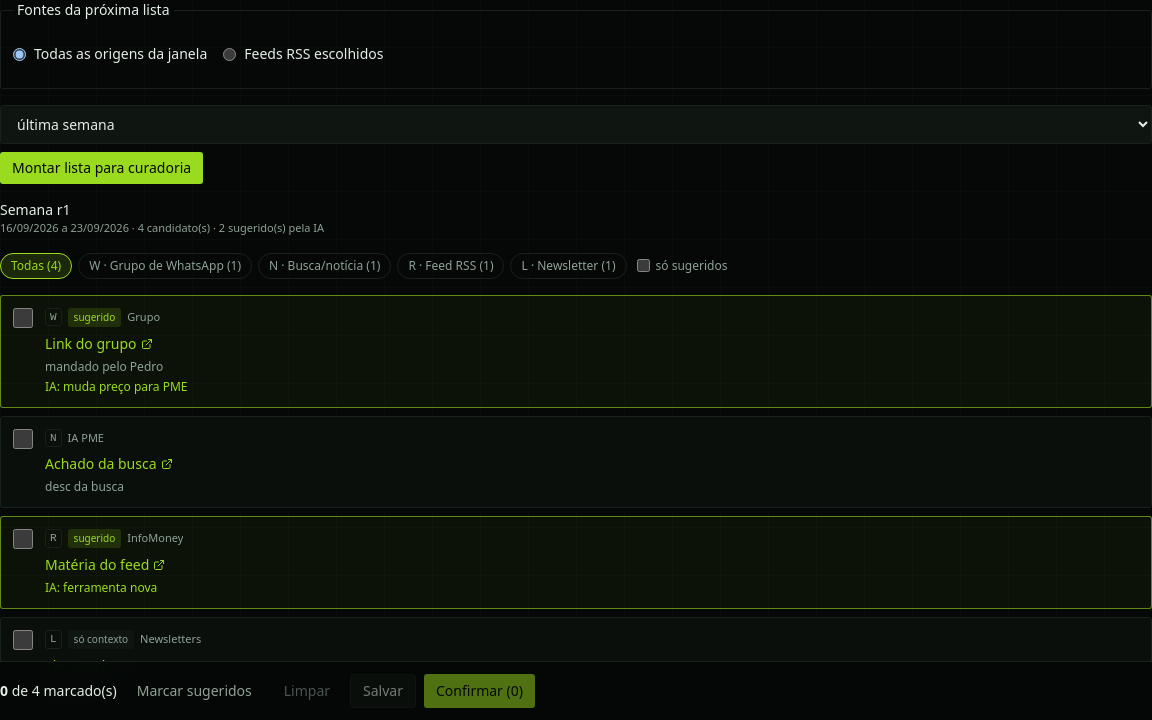
marcar, salvar e confirmar › só os marcados vão na confirmação, e a tela avisa que a rodada seguiu
This screenshot has width=1152, height=720.
Expected: the checkbox named "Marcar: Link do grupo" is shown, [13, 308, 33, 328]
Step 1. Click the checkbox named "Marcar: Achado da busca" → (23, 438), box [13, 428, 33, 448]
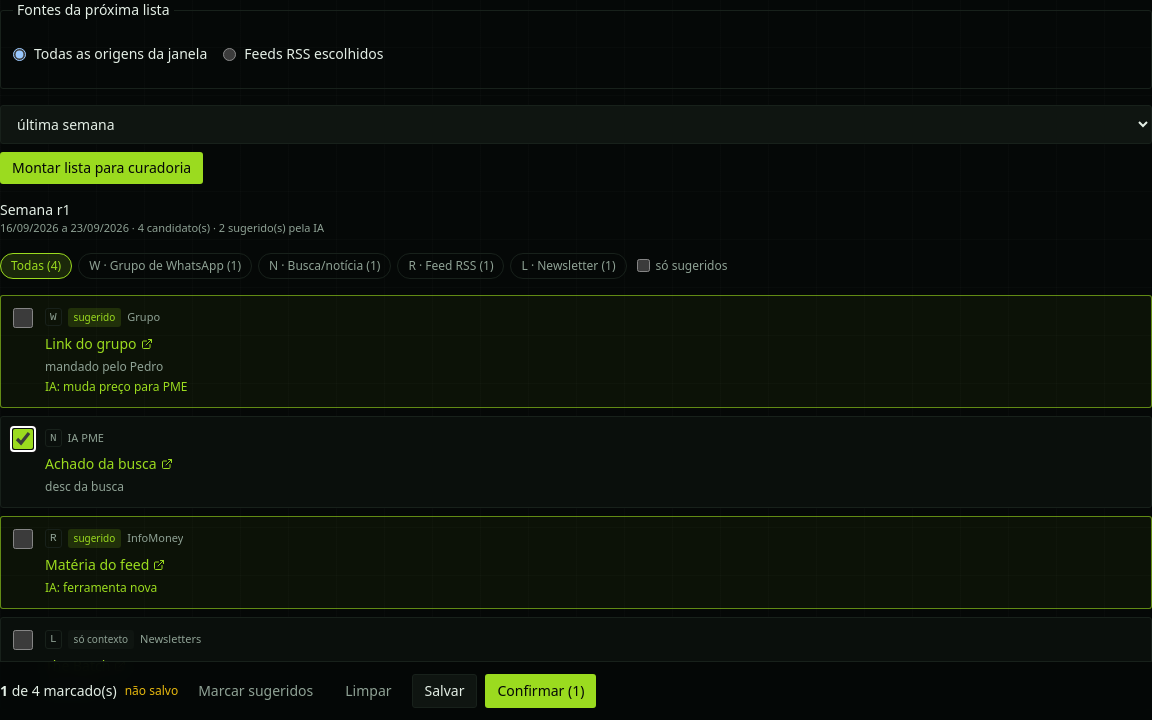
Step 2. Click the checkbox named "Marcar: The Batch" → (23, 640), box [13, 630, 33, 650]
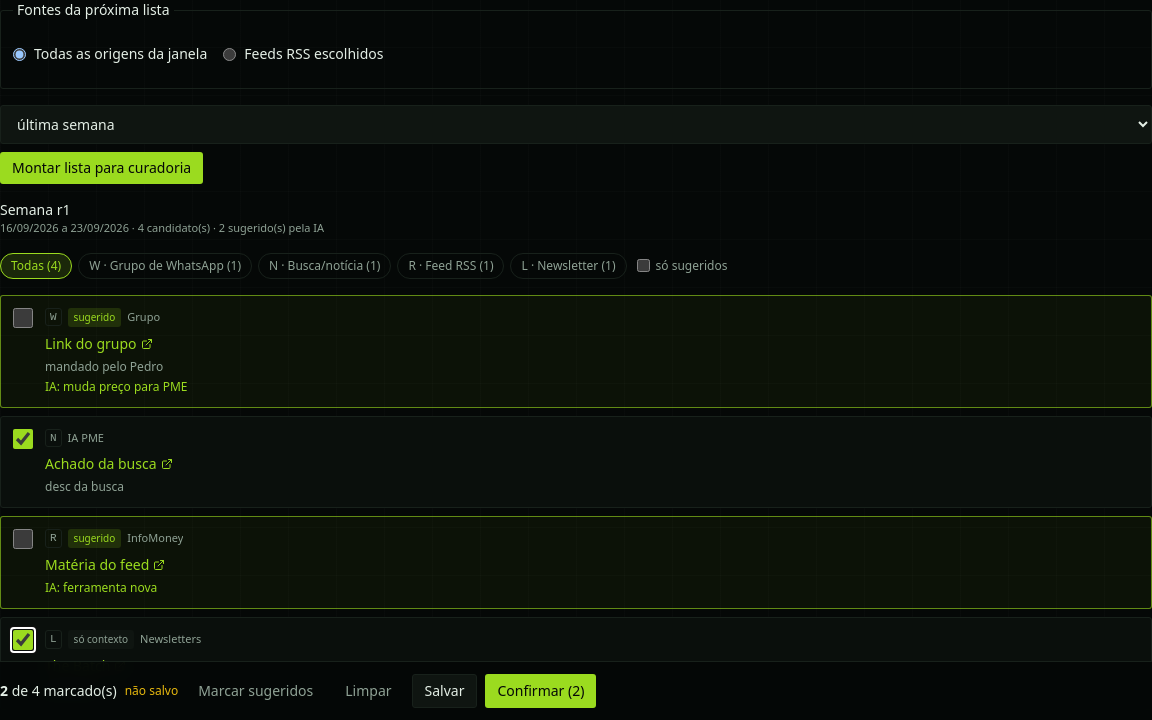
Step 3. Click the checkbox named "Marcar: The Batch" → (23, 640), box [13, 630, 33, 650]
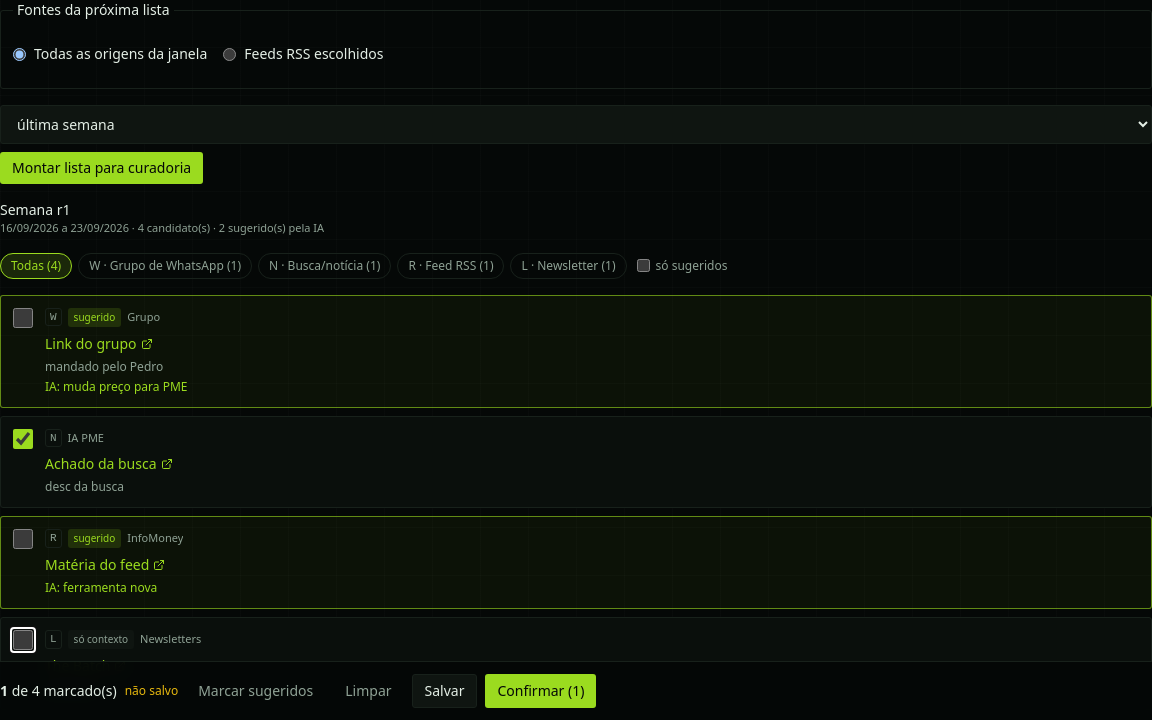
Expected: the text "não salvo" is shown, [125, 683, 178, 699]
Step 4. Click the button "Confirmar (1)" → (541, 691), box [486, 674, 596, 708]
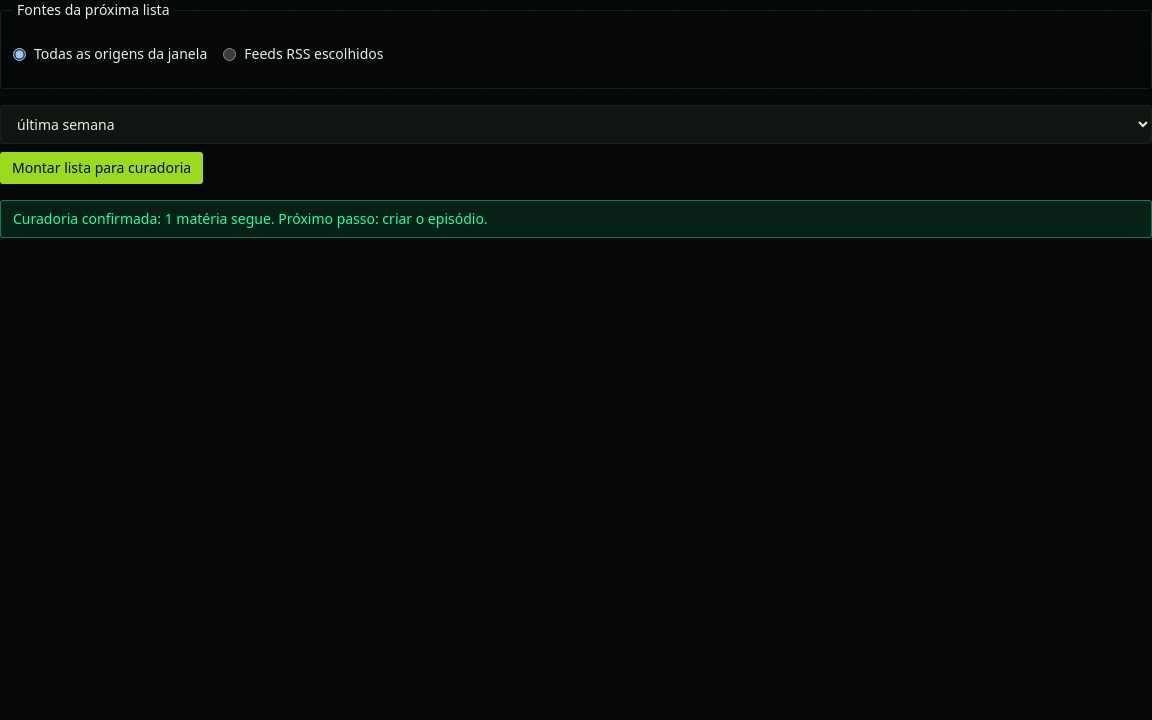
Expected: the message reads "Curadoria confirmada: 1 matéria segue. Próximo passo: criar o episódio.", [13, 209, 488, 228]
